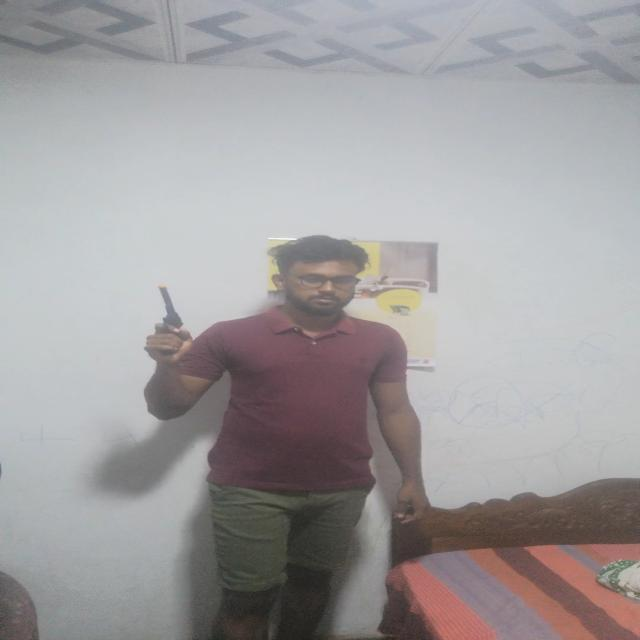Gun_Holder: (138, 279, 200, 356)
Person: (144, 235, 428, 640)
